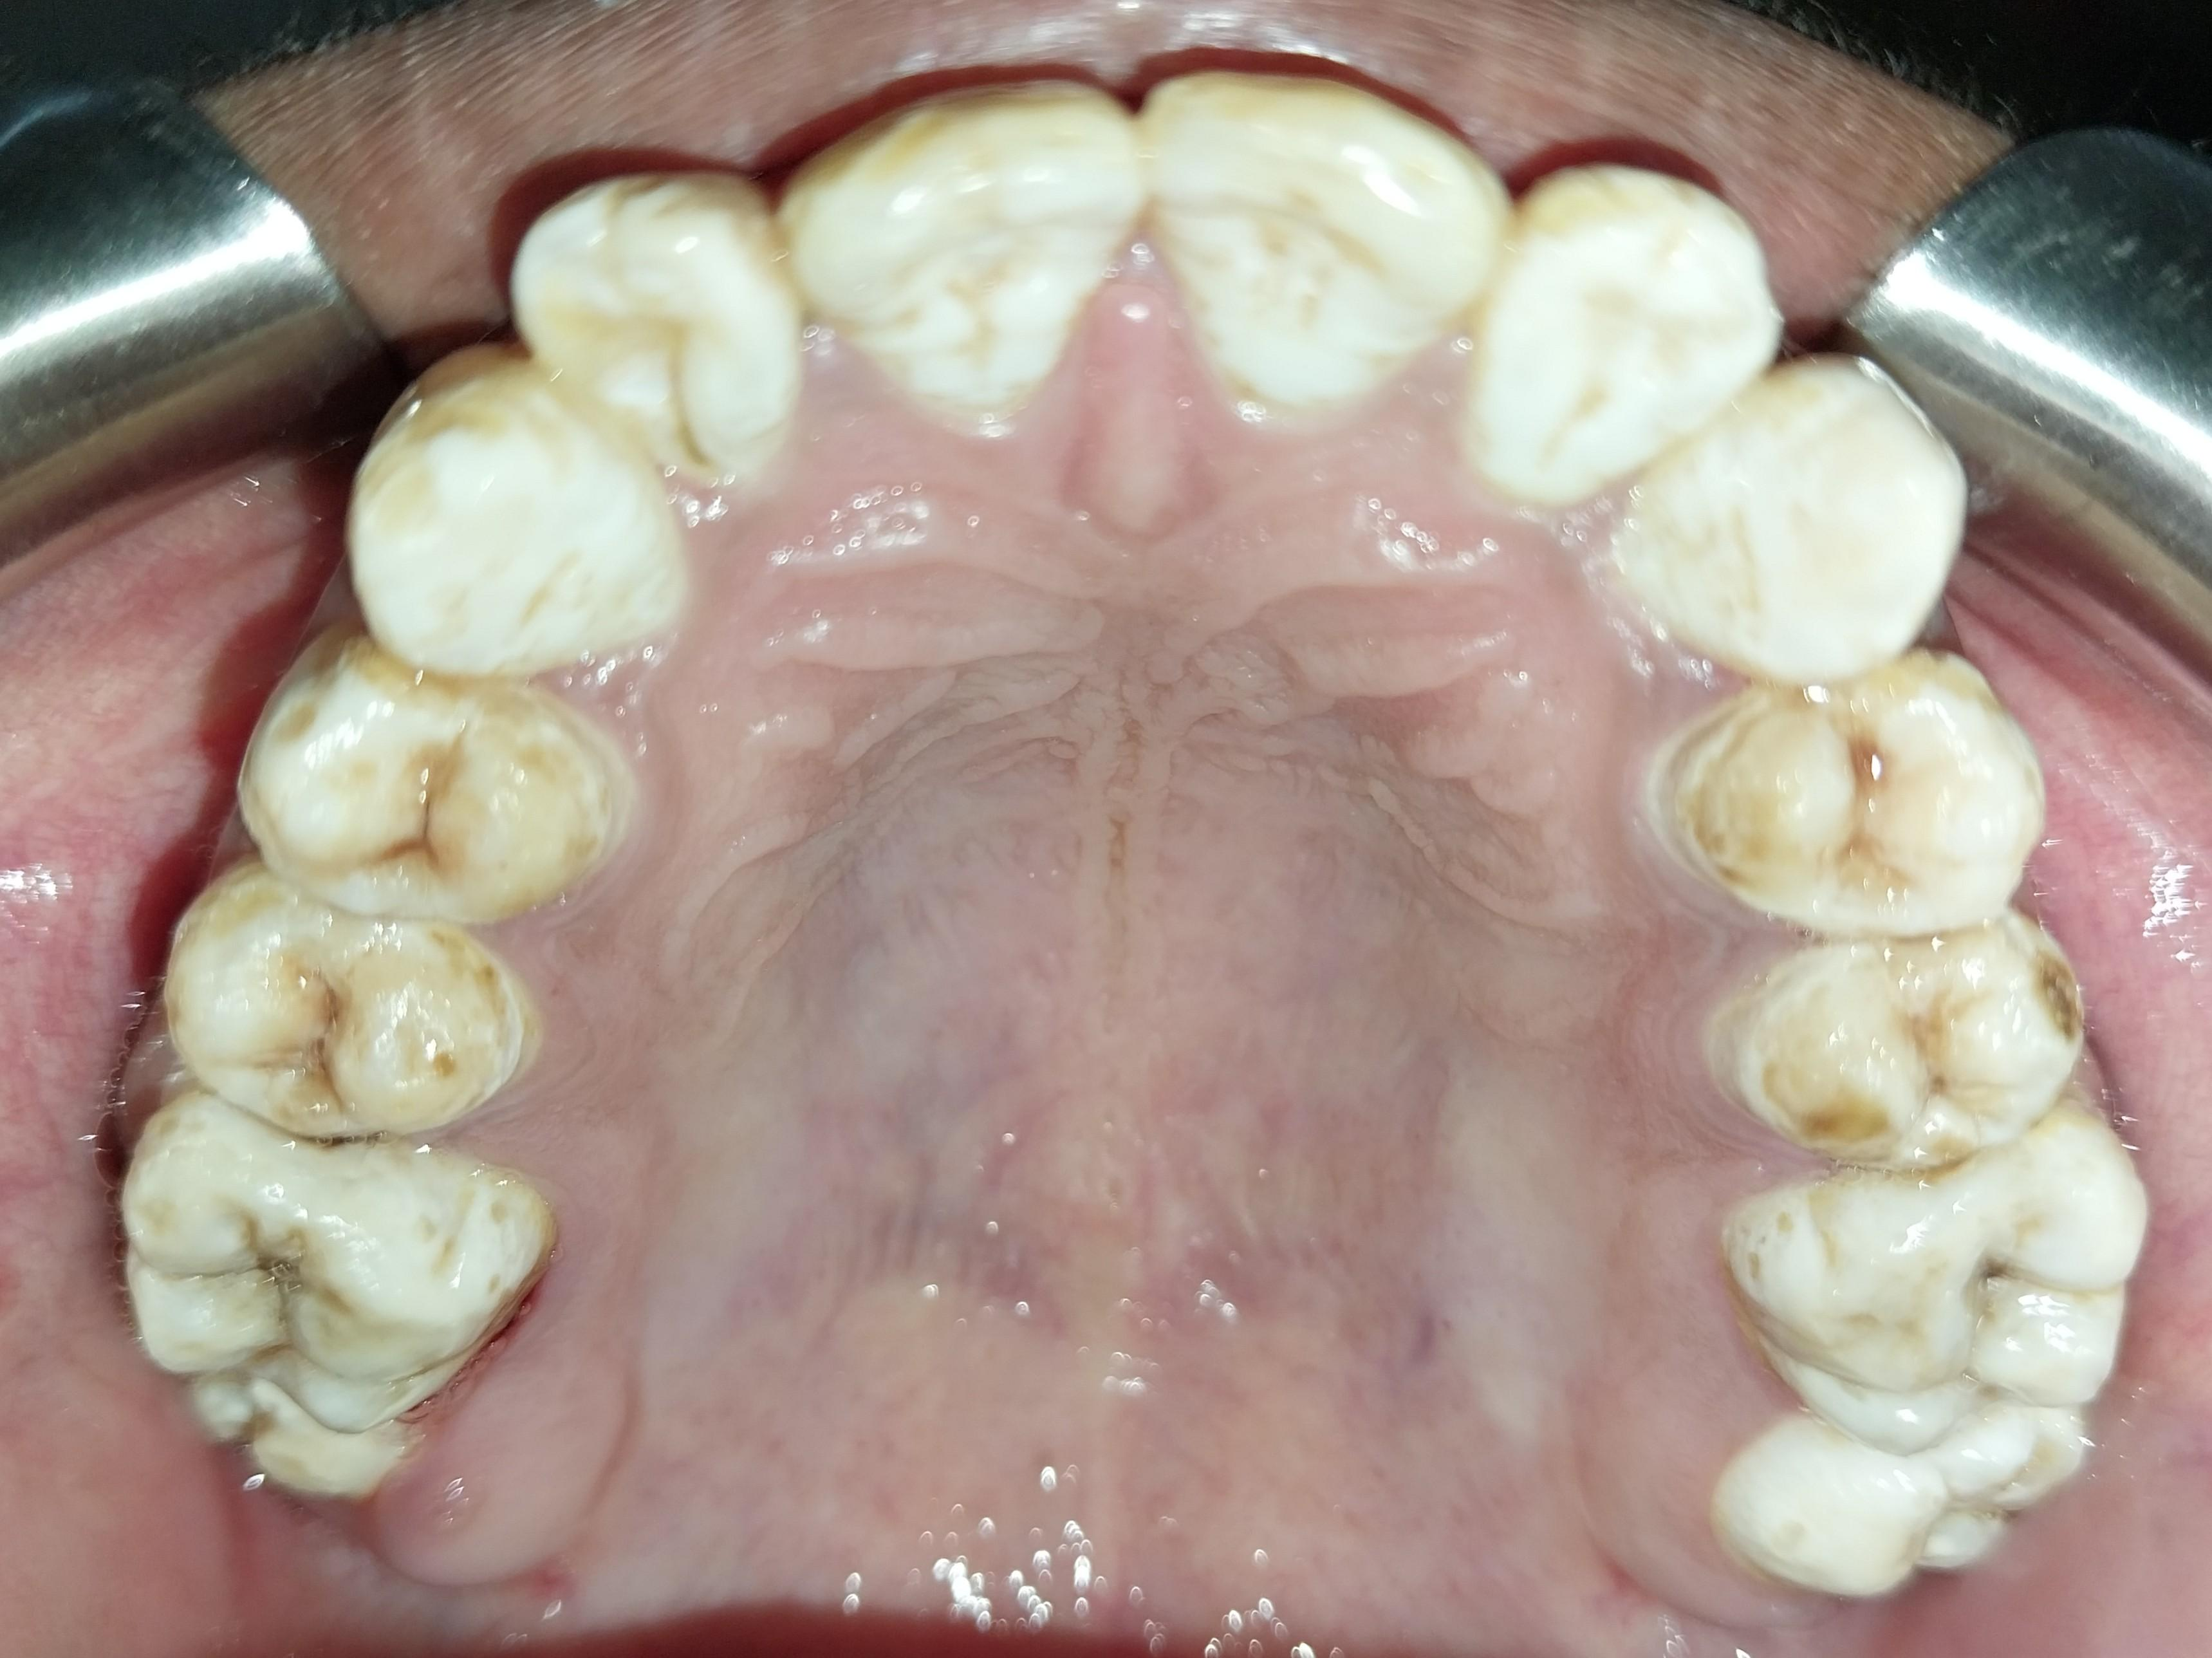D: (124, 1107, 551, 1439), (1745, 1120, 2133, 1446)
